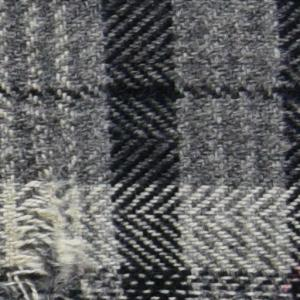Damage: (1, 128, 95, 300)
